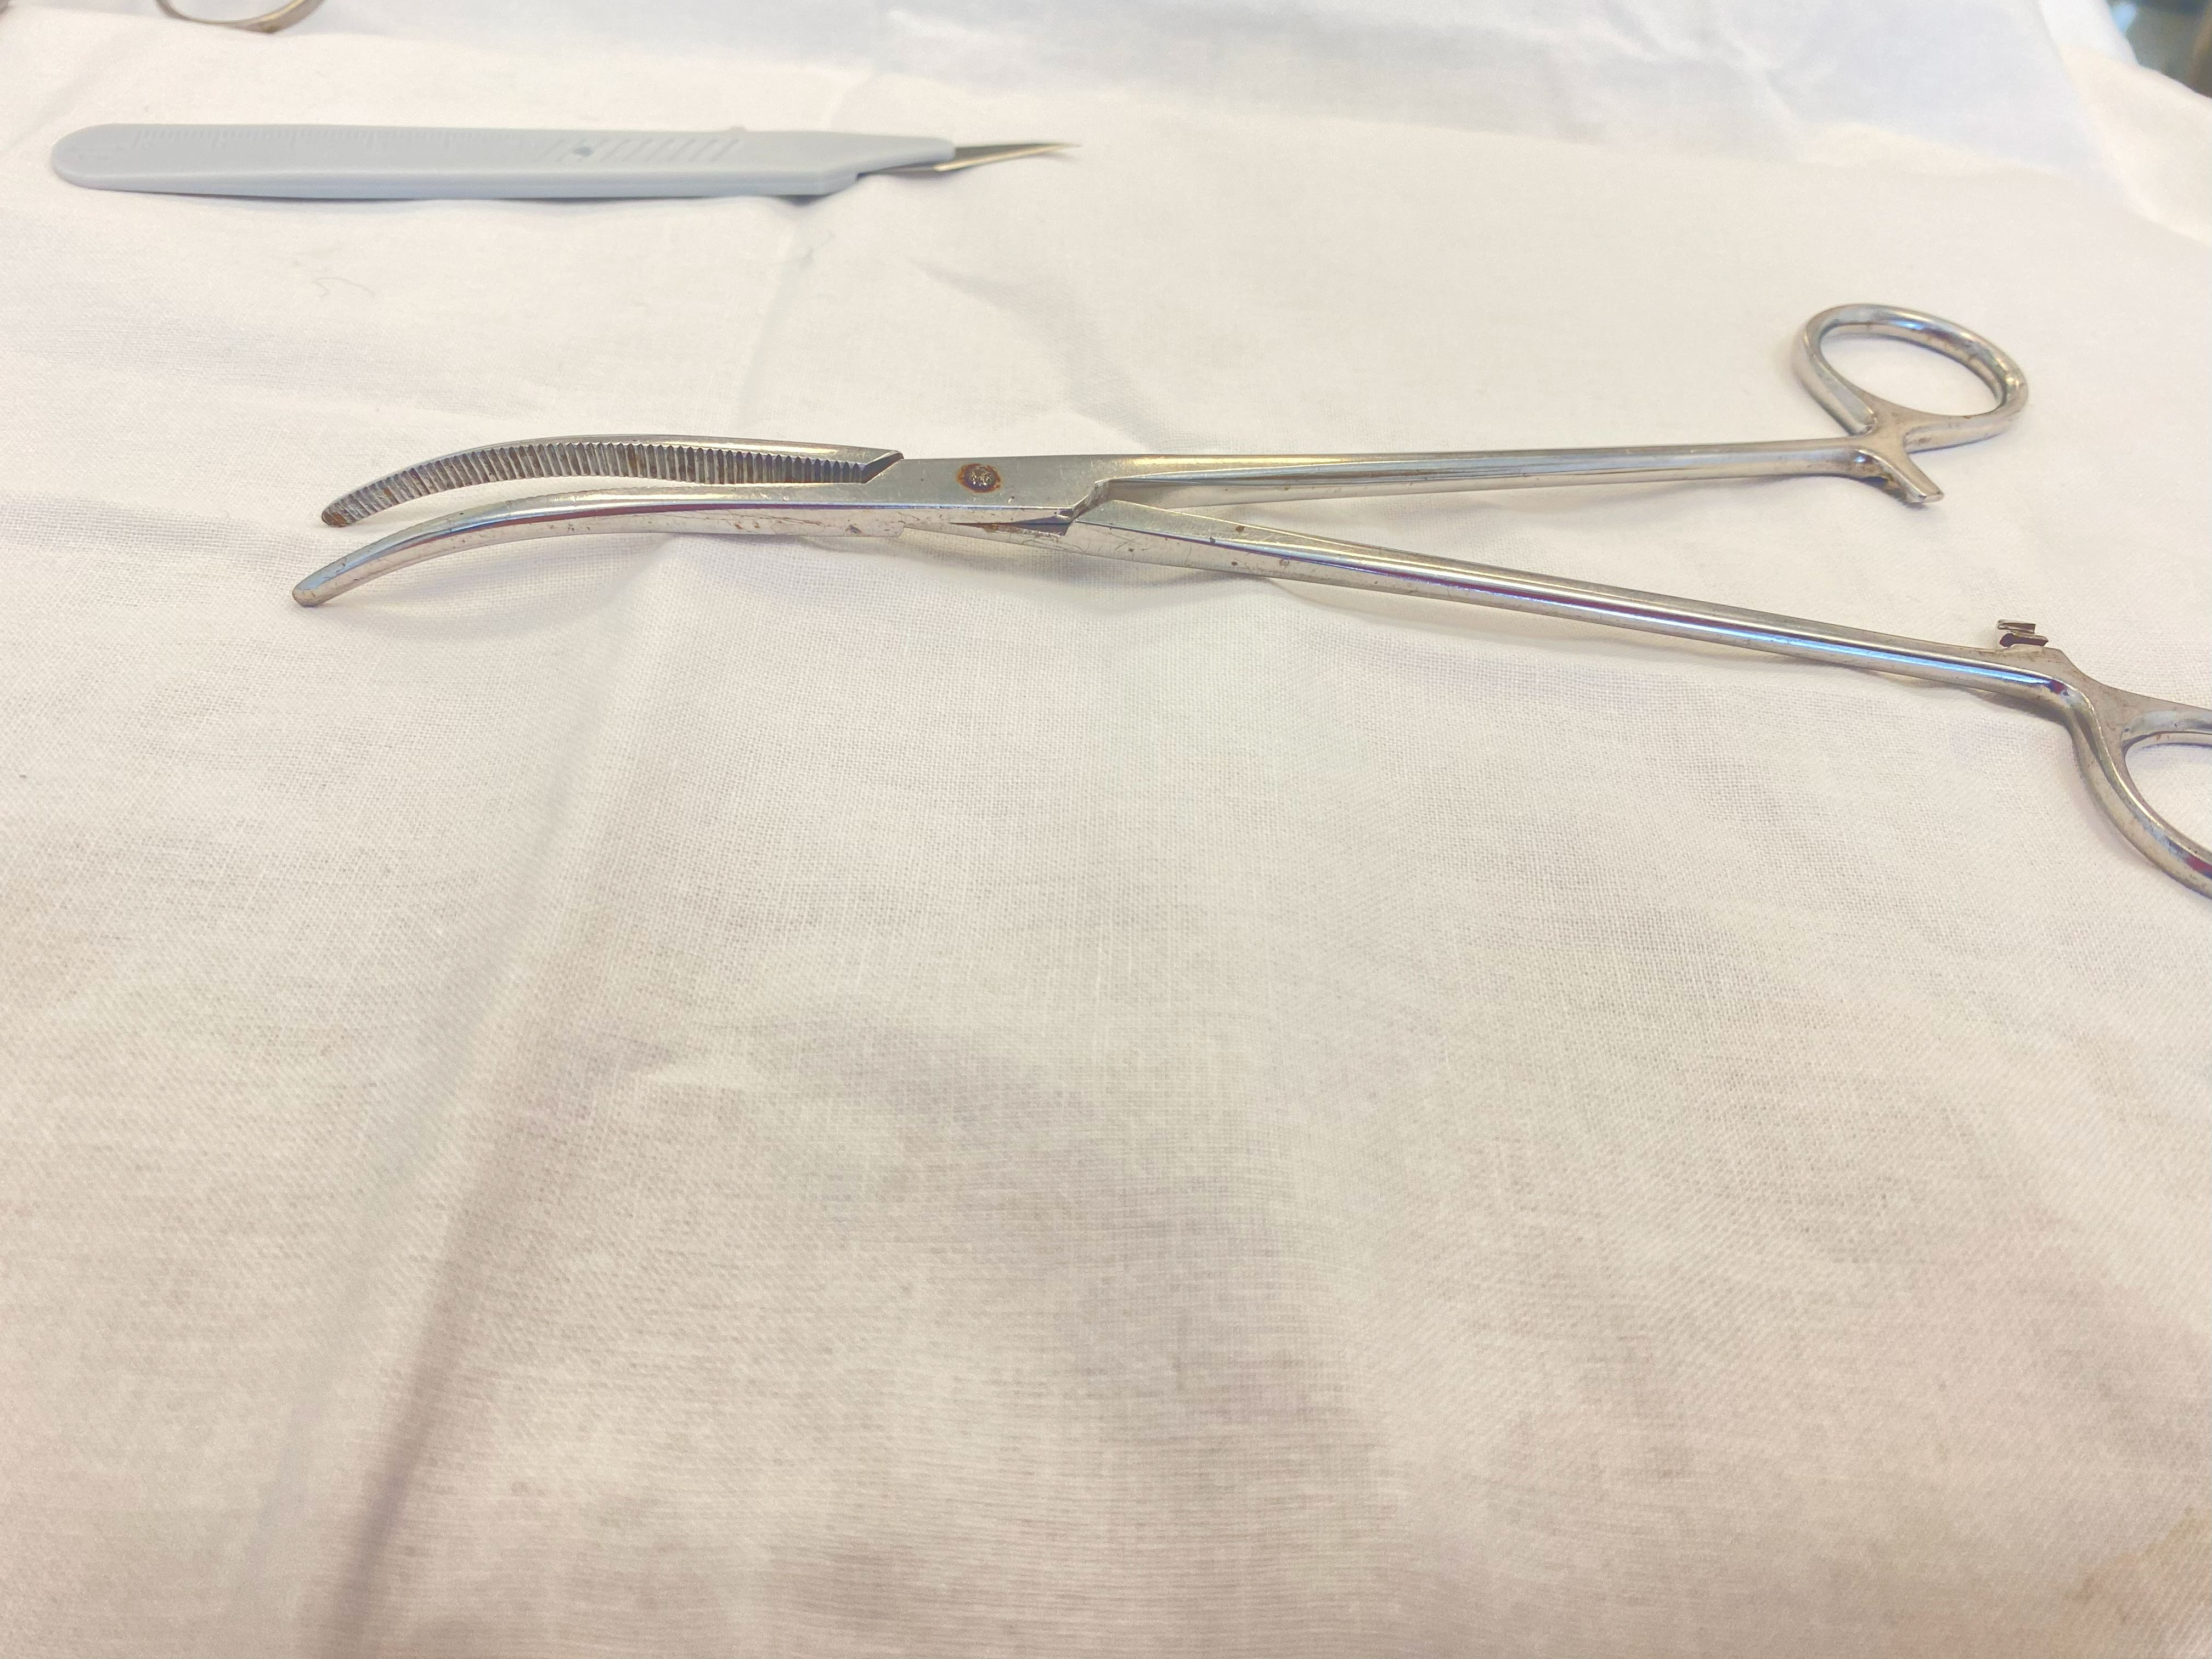clamp: (294, 305, 2212, 896)
